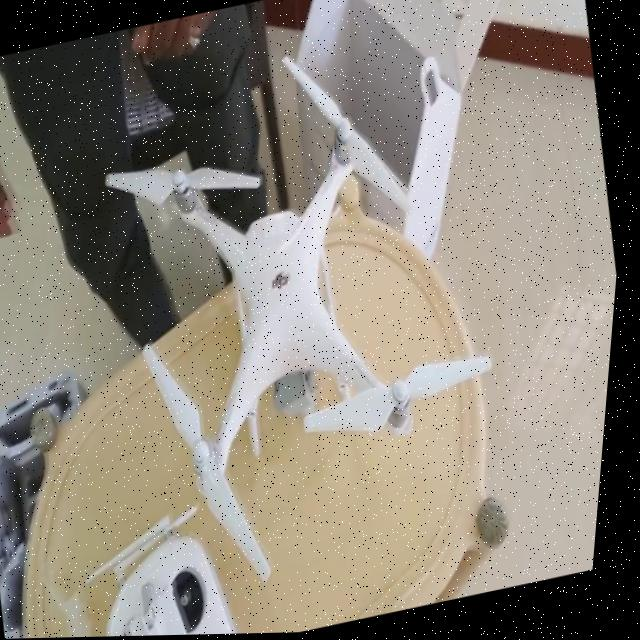drones: (49, 6, 573, 610)
